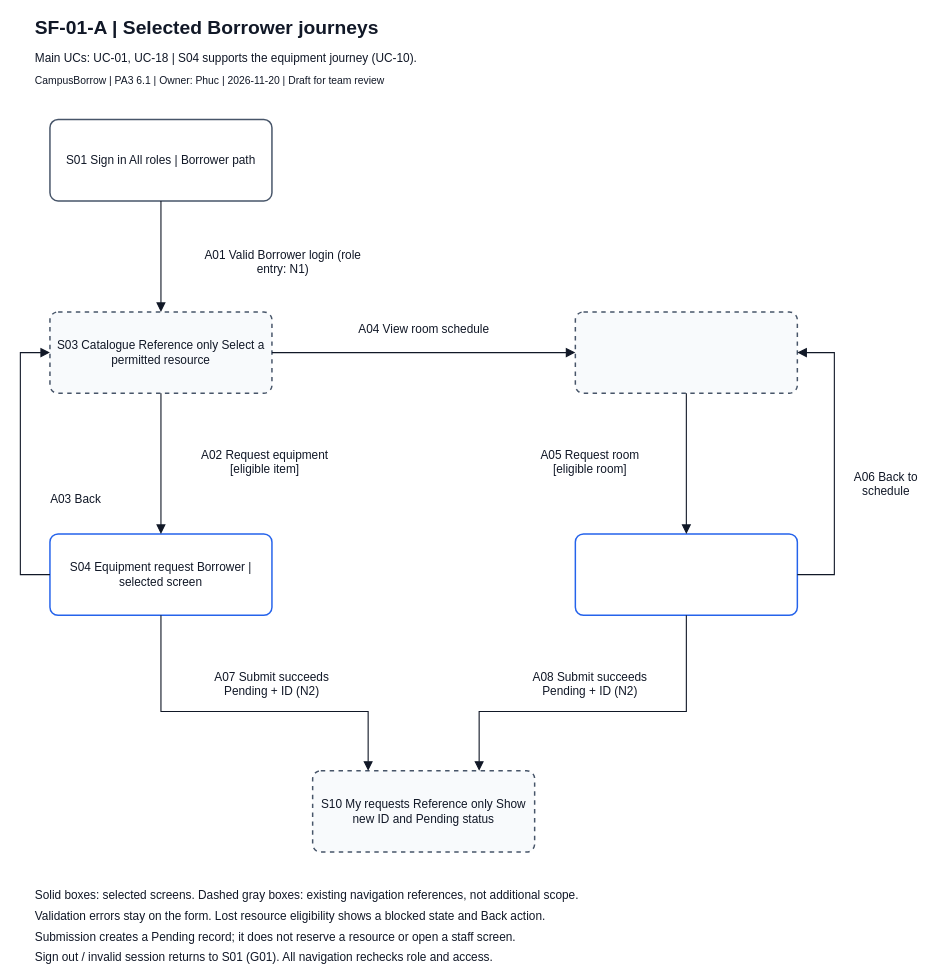
Some shapes in this 939 by 978 pixel diagram are drawn without their labels. Each missing label, with the centre of its shape:
"S07 Room schedule Reference only Select room/date; check eligibility" goes at point 686,352.
"S08 Room booking Borrower | selected screen" goes at point 686,574.
